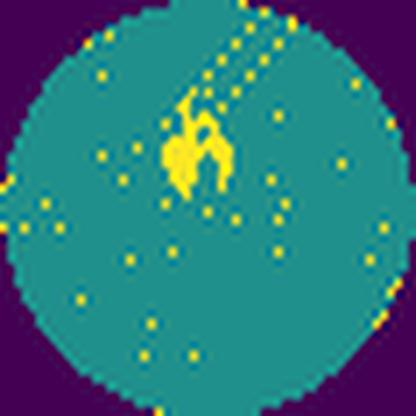Loc: (158, 87, 238, 200)
